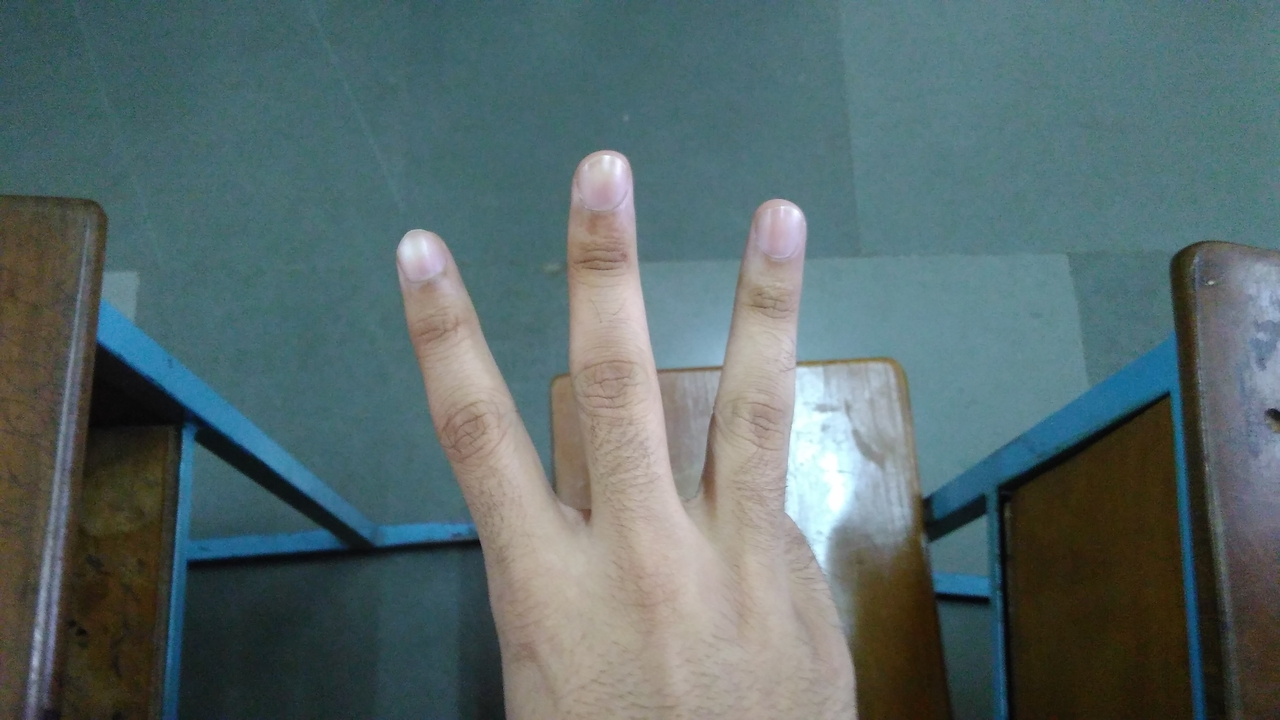fingertip: (564, 150, 642, 214), (740, 196, 812, 264), (386, 228, 456, 296)
